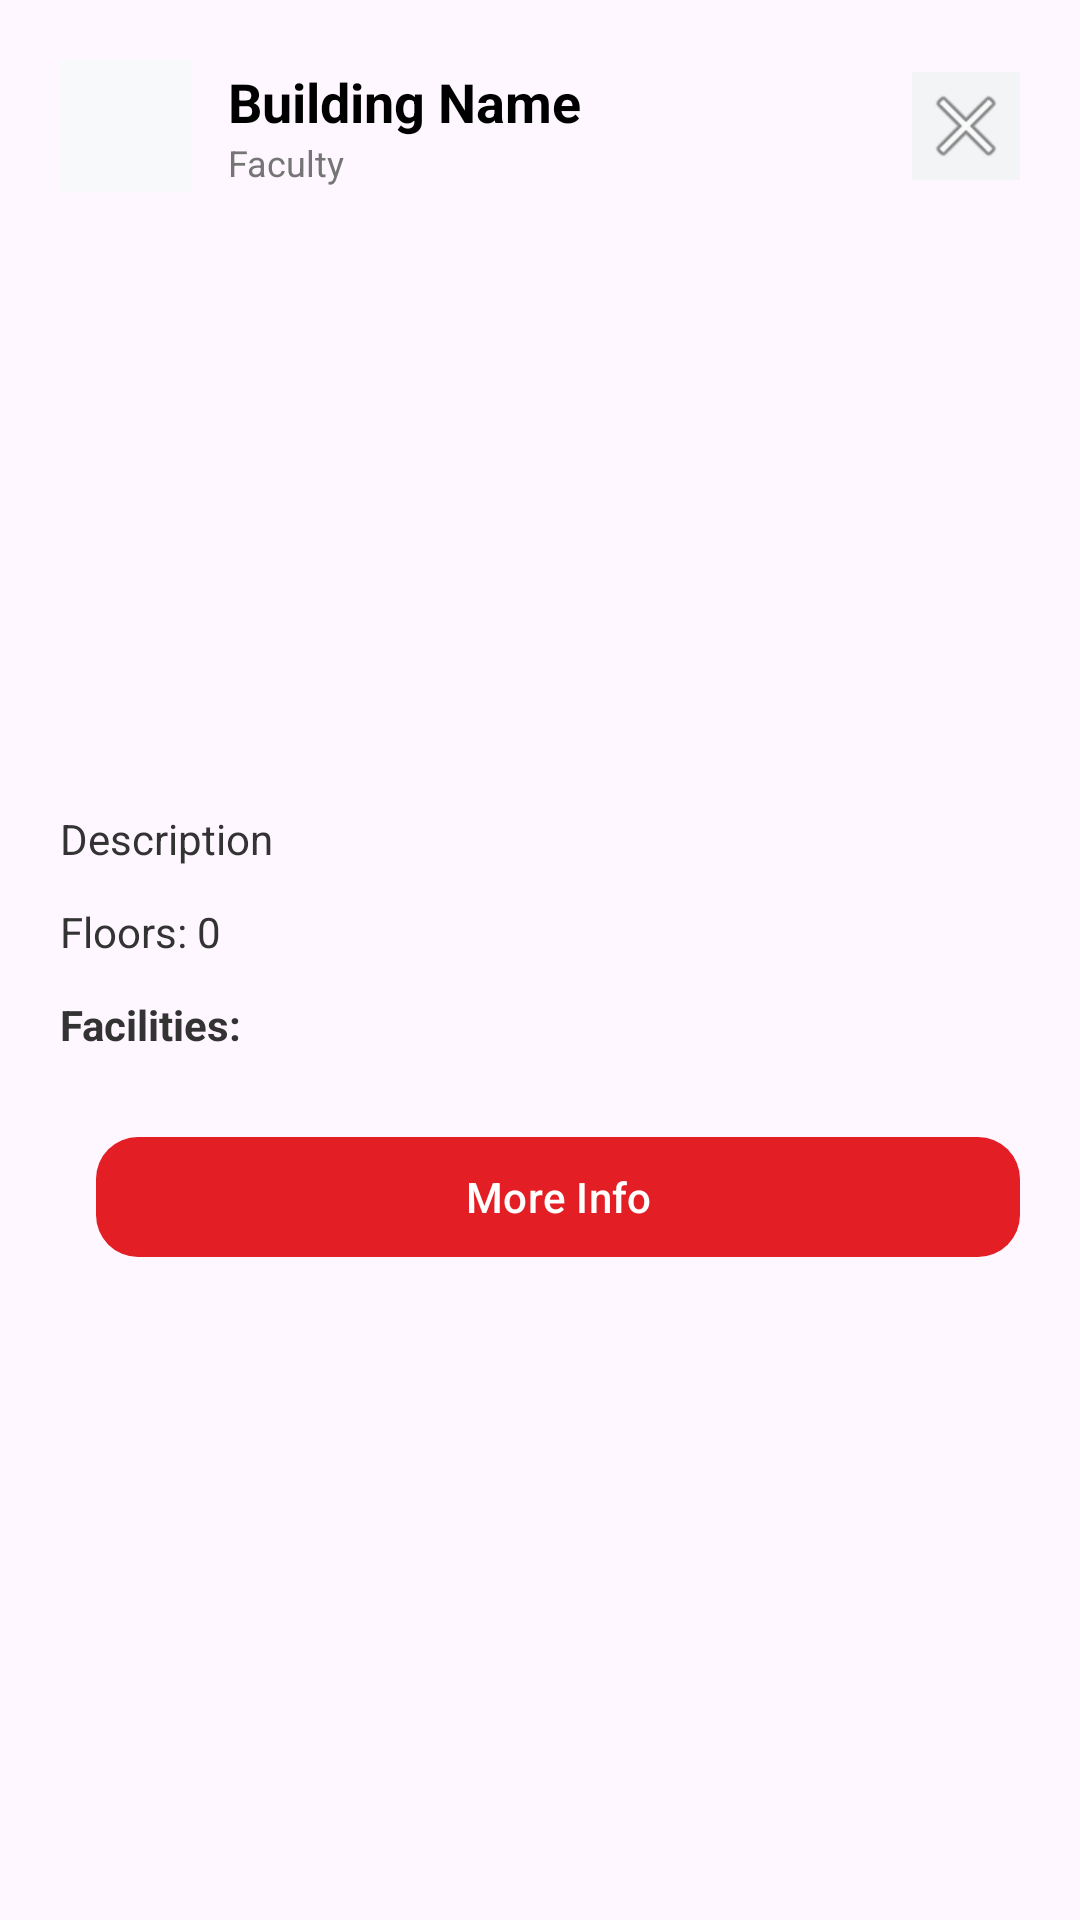

Screen size 1080px x 1920px. Icon name, then its box in pixels as [left=x1, top=y1, right=x2, bottom=y2]:
Close: [left=912, top=72, right=1020, bottom=180]
